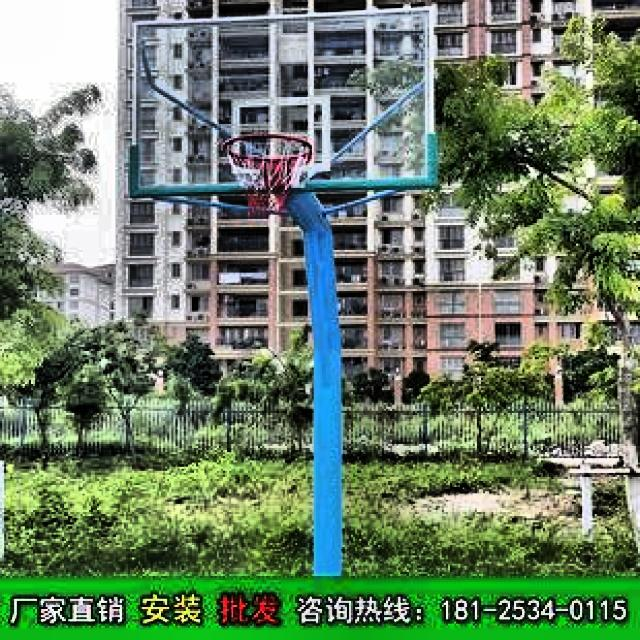rim: (223, 133, 316, 216)
